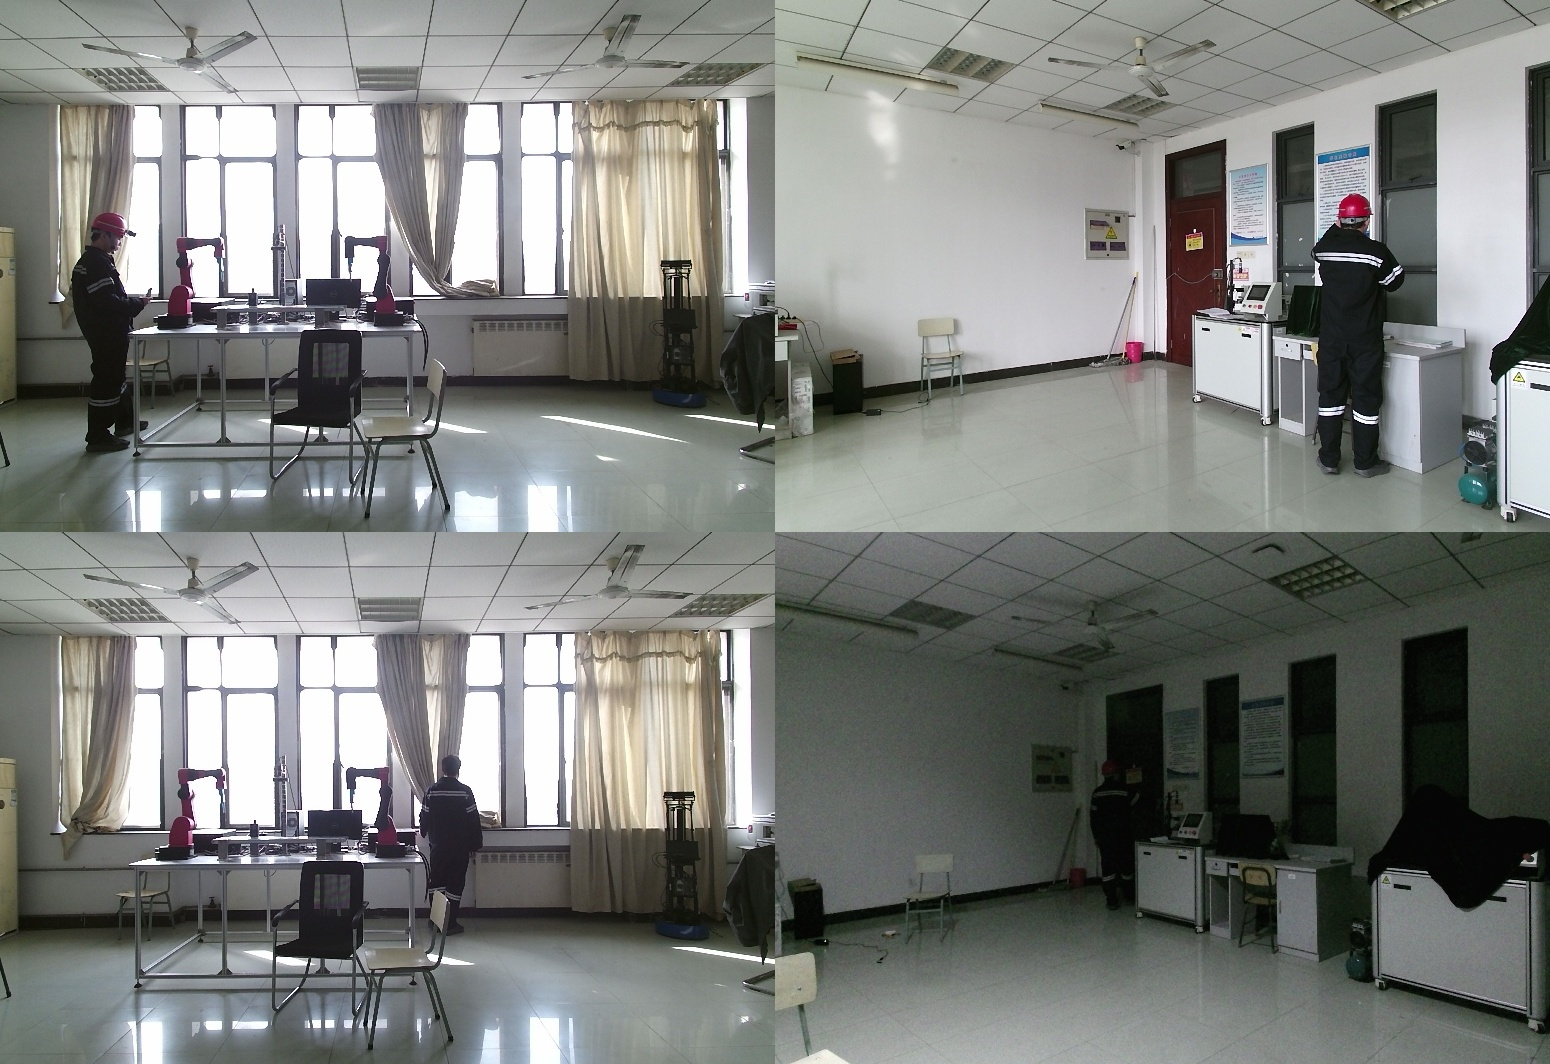person: (1307, 193, 1426, 474), (69, 211, 153, 452), (1083, 762, 1156, 918), (418, 754, 483, 918)
